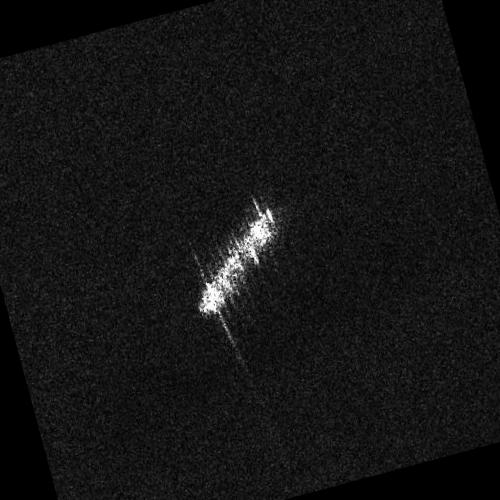ship: (199, 209, 278, 314)
